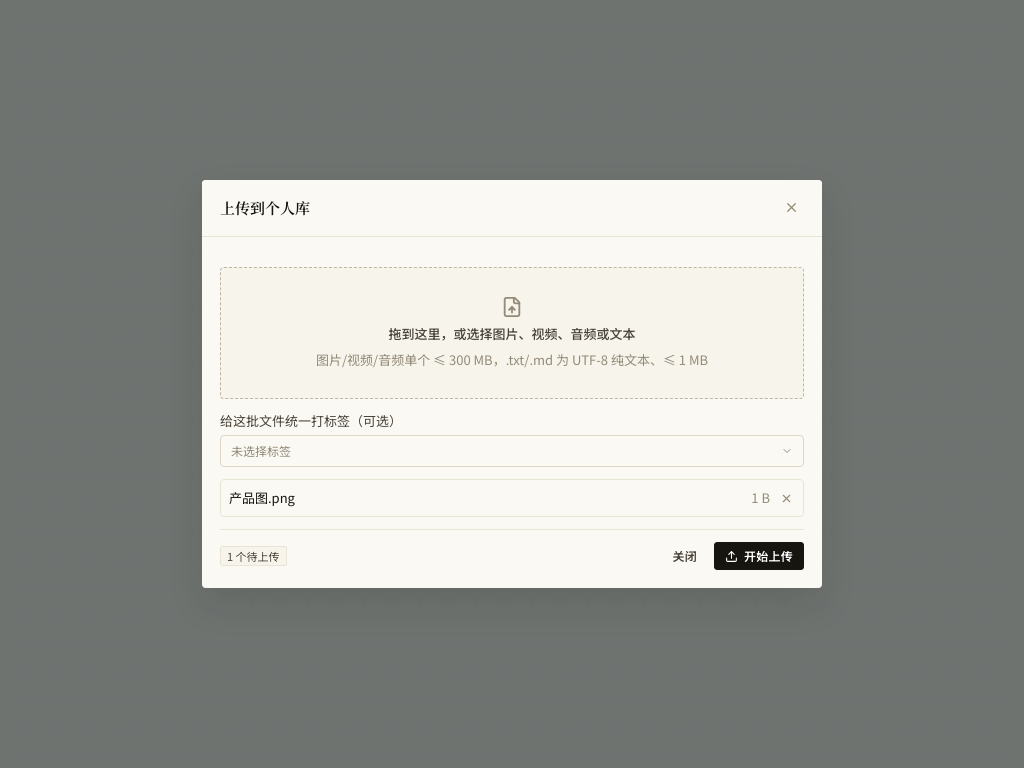
it: LibraryUploadModal · 打标签失败不是上传失败 › 文件已入库、只是标签没打上时，不报「没上传成功」
Earlier steps of the test are not shown.
Click the button with aria-label "上传标签": [261, 451] box x1=220 y1=435 x2=804 y2=467
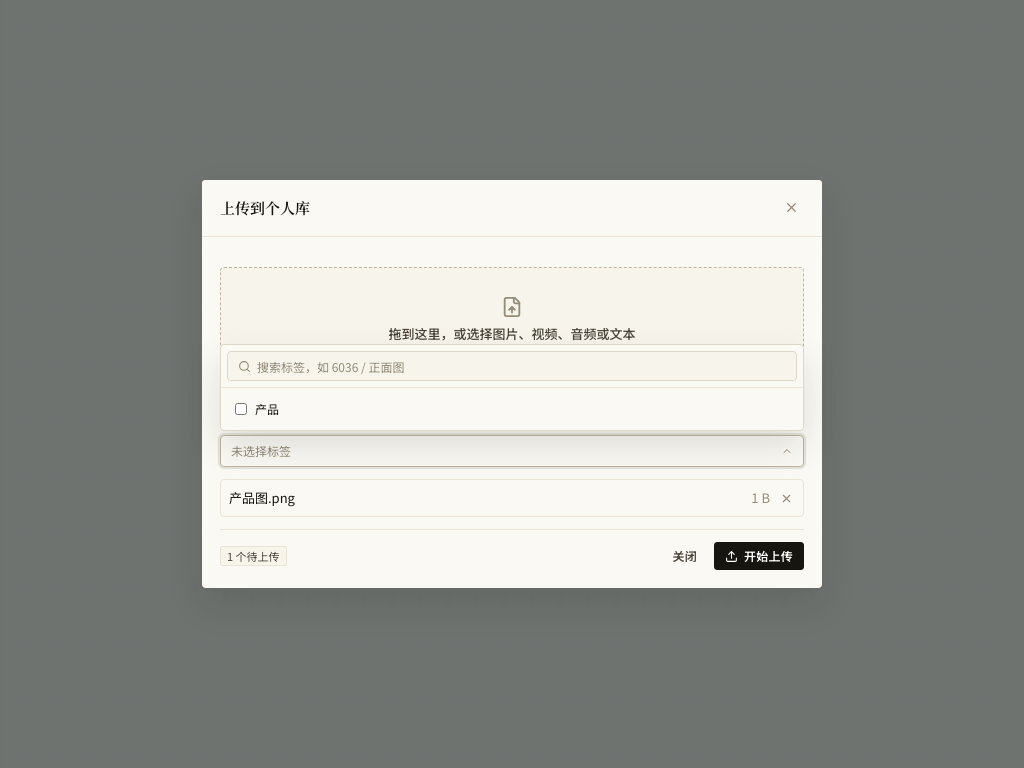
Click the checkbox labelled "产品": [241, 409] box x1=235 y1=403 x2=247 y2=415
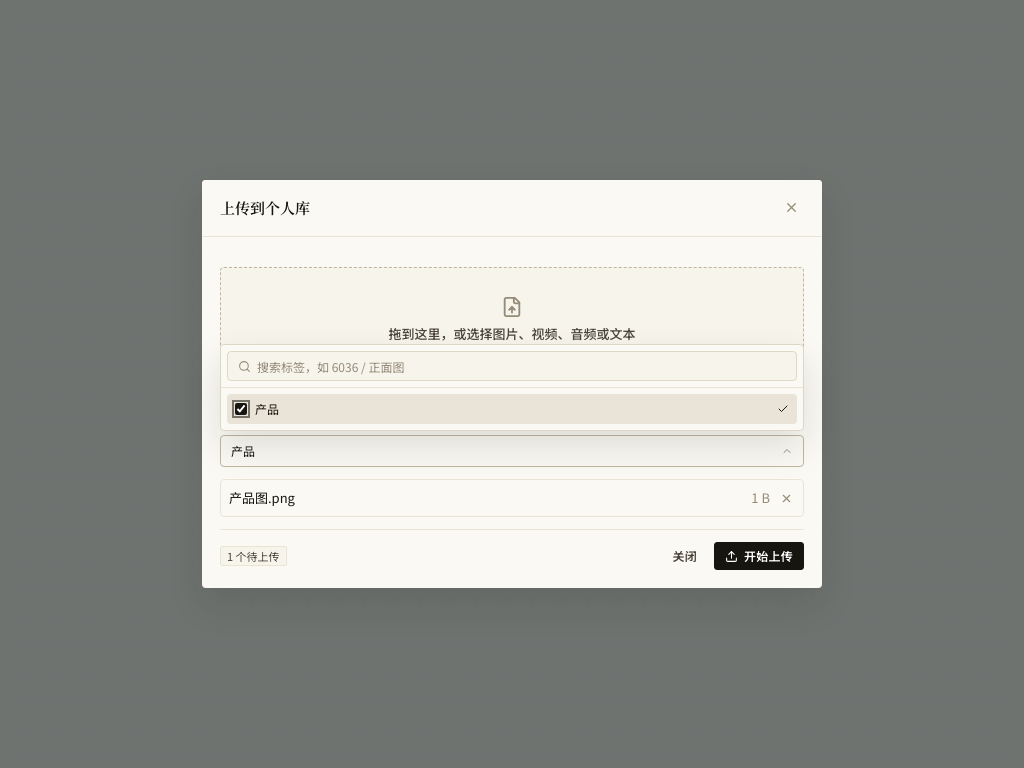
Click the button "开始上传": [759, 556] box x1=714 y1=542 x2=804 y2=570
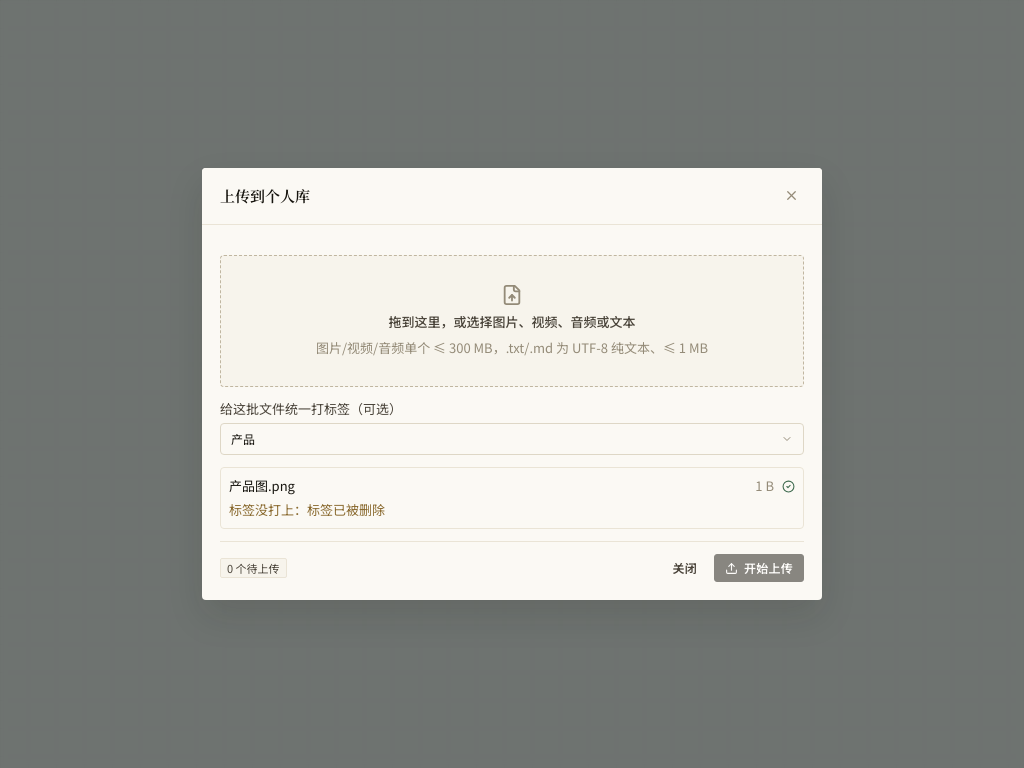
Expected: the text "标签没打上：标签已被删除" is shown, x1=229 y1=500 x2=385 y2=519
